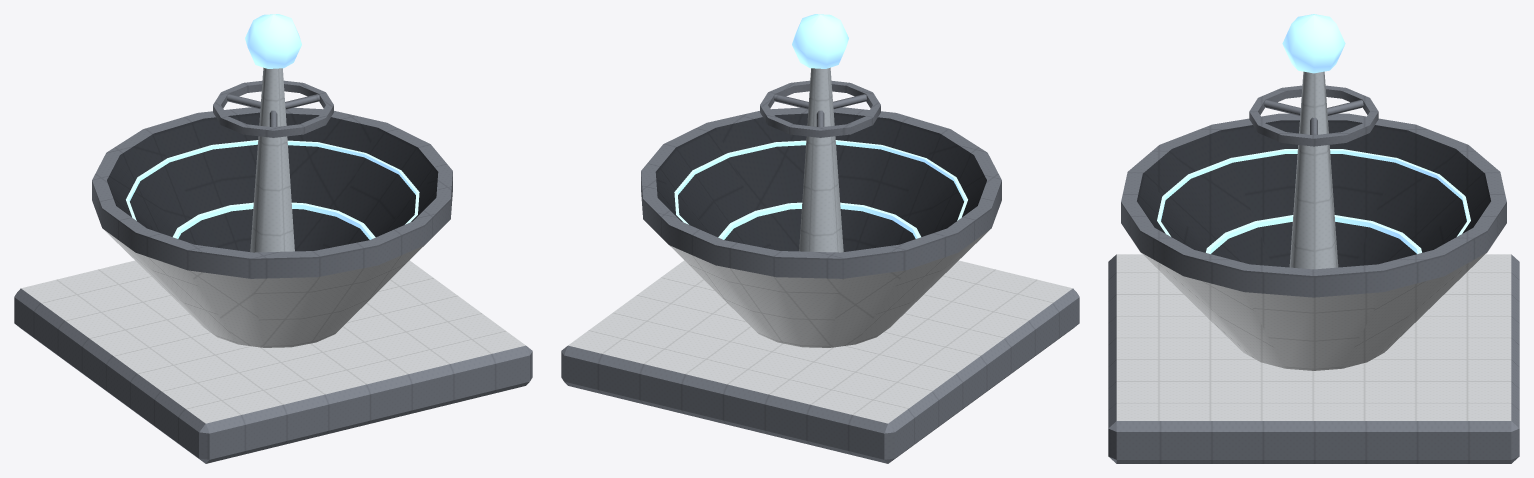
Rendered from R4X_ScannerPulse_LOD1.glb.
3 renders of one model, left to right at view 1: azimuth 30°, elevation 25°; view 2: azimuth 150°, elevation 25°; view 3: azimuth 270°, elevation 25°, orthographic. The views are drawn at different scales.
Parts seen in each view (by area): view 1: R4X_ScannerPulse_LOD1; view 2: R4X_ScannerPulse_LOD1; view 3: R4X_ScannerPulse_LOD1.
Boxes of the visible parts, bbox=[...] form: R4X_ScannerPulse_LOD1: bbox=[14, 14, 532, 463]; R4X_ScannerPulse_LOD1: bbox=[561, 14, 1079, 463]; R4X_ScannerPulse_LOD1: bbox=[1108, 14, 1519, 463].
Bounding box in the file's own units: 0.52 × 0.51 × 0.52.
Materials: 5 (4 with a texture image).
